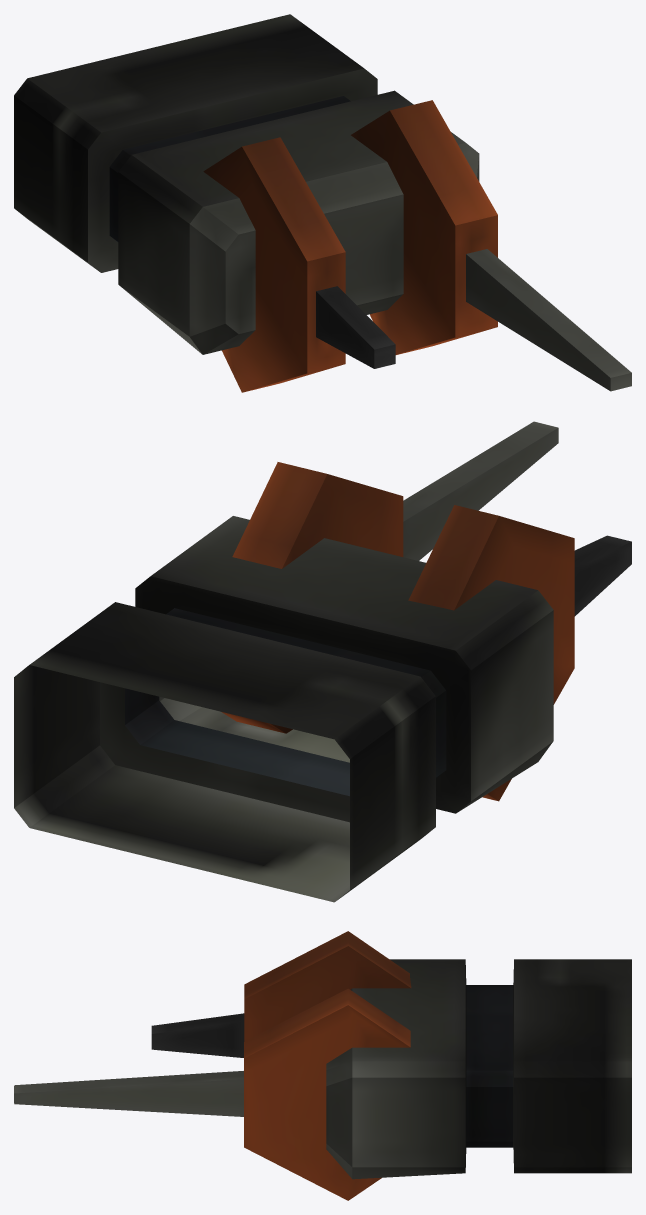
The model's file is StabilizerMesh2.fbx.
The picture shows the model from 3 angles, top to bottom: view 1: azimuth 30°, elevation 25°; view 2: azimuth 150°, elevation 25°; view 3: azimuth 270°, elevation 25°; orthographic projection. The views are drawn at different scales.
Visible parts, largest first — view 1: Module_Sensor_1; view 2: Module_Sensor_1; view 3: Module_Sensor_1.
Part boxes in pixels (x1,y1,x2,y2): Module_Sensor_1: (14,14,631,392); Module_Sensor_1: (14,421,631,902); Module_Sensor_1: (14,931,631,1200).
Bounding box in the file's own units: 6.77 × 5.5 × 15.72.
